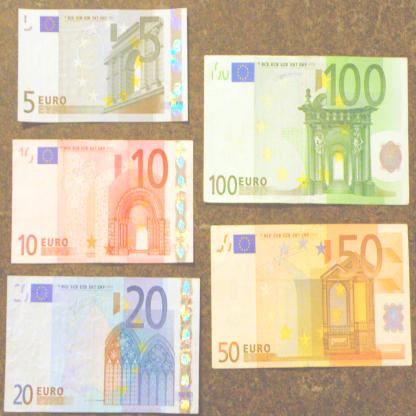euro_banknote: (205, 56, 411, 206), (212, 225, 413, 369), (5, 277, 201, 415), (11, 140, 195, 265), (19, 8, 189, 124)
